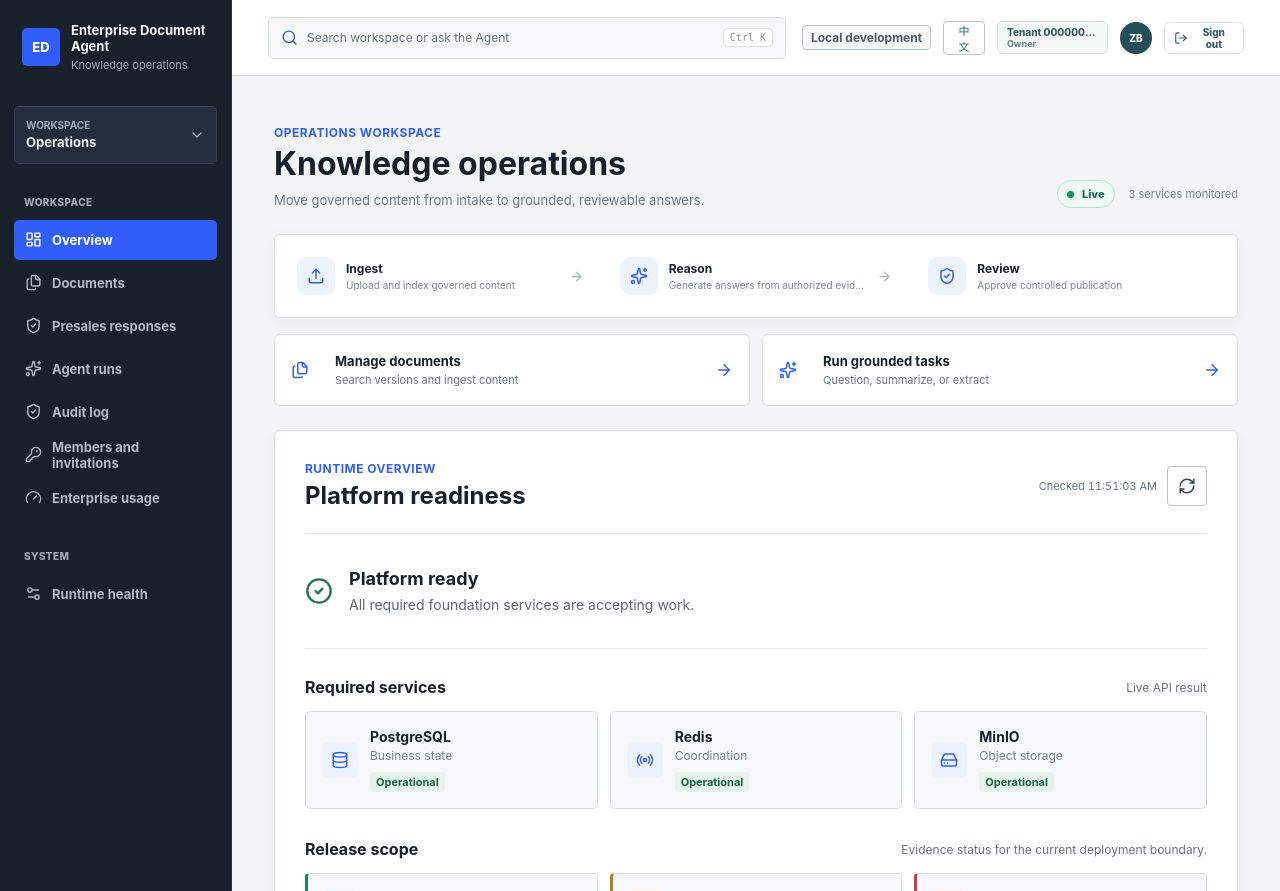
App readiness dashboard › surfaces when server-side sign-out cannot be confirmed
Expected: the text "Tenant 00000000" is shown, [1007,26,1098,38]
Click the button "Sign out" at (1204, 38), box [1164,22,1244,54]
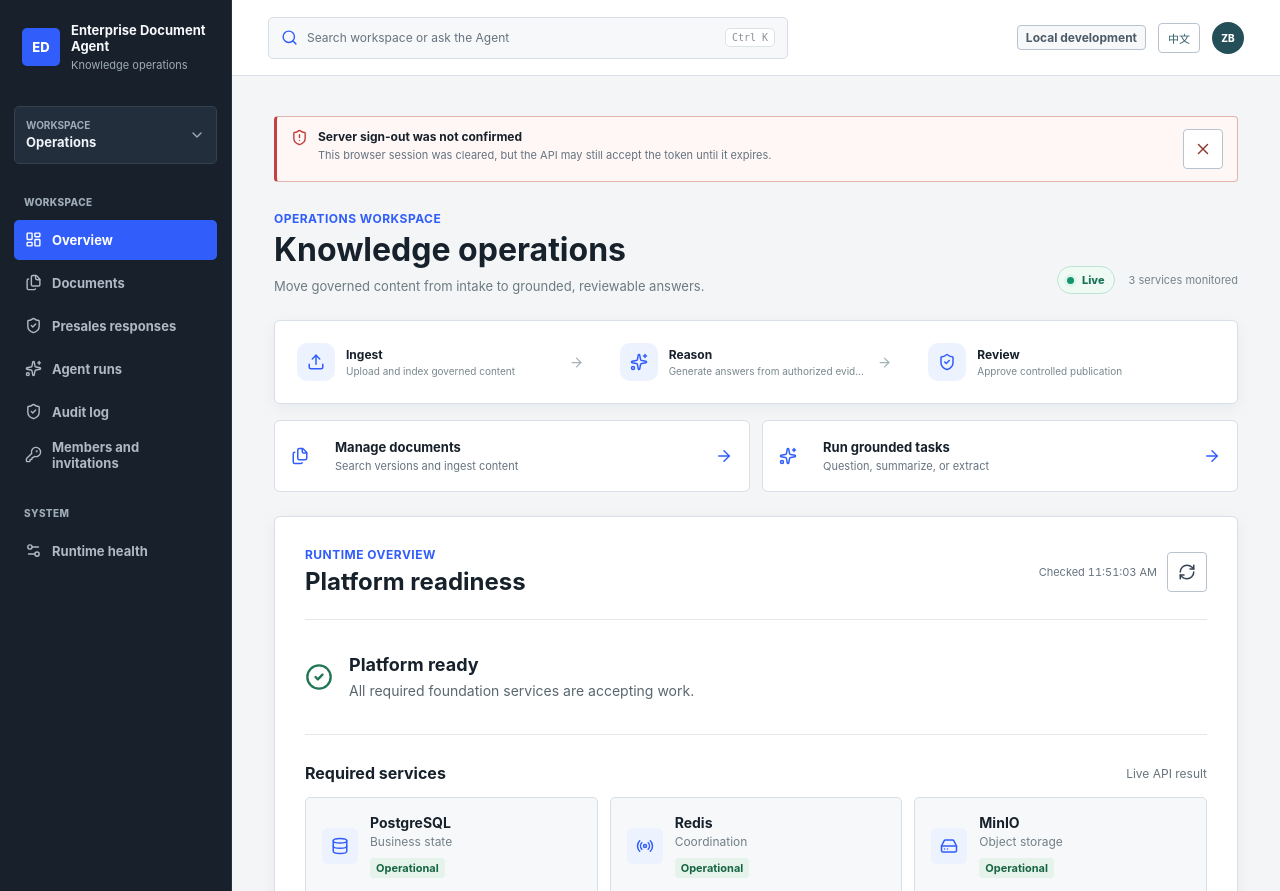
Now the message shows "Server sign-out was not confirmed", box [318,129,522,144]
Now the message shows "browser session was cleared", box [318,148,772,162]
Click the button named "Dismiss sign-out warning" at (1203, 149), box [1183,129,1223,169]
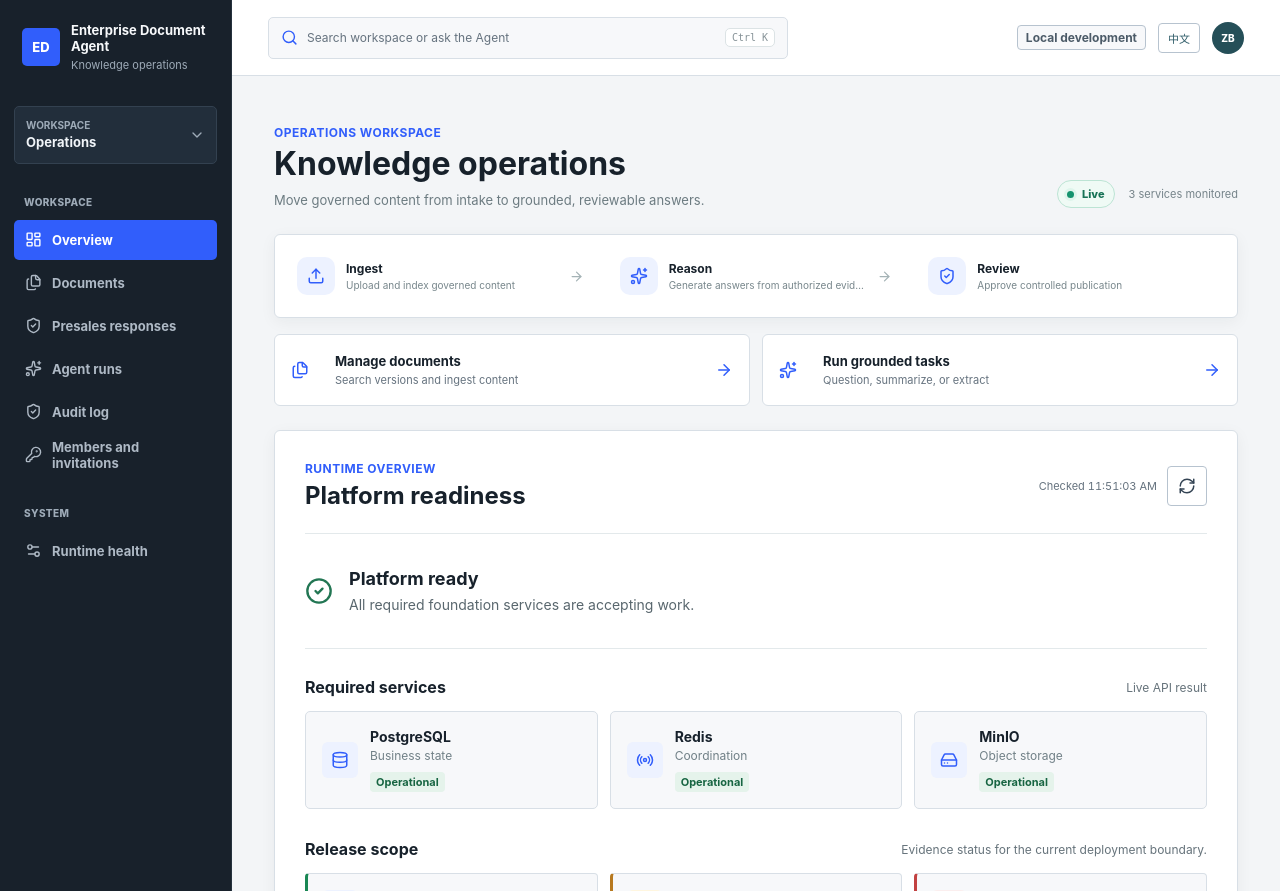
Now the message "Server sign-out was not confirmed This browser session was cleared, but the API" is gone
